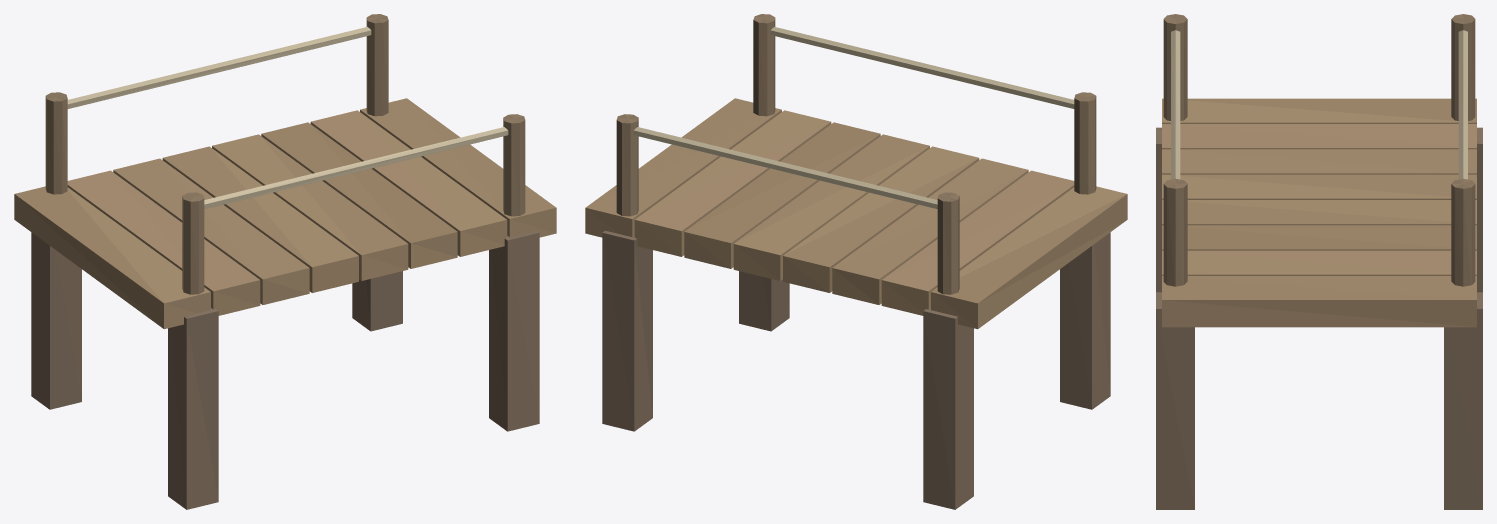
File: dock_straight.glb
The picture shows the model from 3 angles, left to right: view 1: azimuth 30°, elevation 25°; view 2: azimuth 150°, elevation 25°; view 3: azimuth 270°, elevation 25°; orthographic projection. The views are drawn at different scales.
Visible parts, largest first — view 1: plank_0, pile_0.65_-0.48, pile_-0.65_-0.48, plank_4, plank_5, plank_6, plank_3, pile_-0.65_0.48, plank_2, plank_1, plank_7, rope_-0.48 (+6 smaller); view 2: plank_0, pile_0.65_0.48, pile_-0.65_0.48, plank_4, plank_5, plank_6, plank_3, pile_-0.65_-0.48, plank_2, plank_1, plank_7, rope_-0.48 (+6 smaller); view 3: plank_7, plank_1, plank_2, pile_0.65_-0.48, pile_0.65_0.48, plank_3, plank_0, plank_5, plank_4, plank_6, post_0.65_-0.48, post_0.65_0.48 (+6 smaller).
Boxes of the visible parts, left/top/right/bottom form: plank_0: left=14, top=186, right=210, bottom=329; pile_0.65_-0.48: left=489, top=230, right=539, bottom=431; pile_-0.65_-0.48: left=168, top=308, right=218, bottom=509; plank_4: left=212, top=134, right=408, bottom=280; plank_5: left=261, top=122, right=457, bottom=268; plank_6: left=310, top=110, right=507, bottom=256; plank_3: left=162, top=146, right=358, bottom=292; pile_-0.65_0.48: left=31, top=232, right=81, bottom=409; plank_2: left=113, top=158, right=309, bottom=304; plank_1: left=67, top=170, right=260, bottom=315; plank_7: left=360, top=98, right=556, bottom=237; rope_-0.48: left=204, top=127, right=508, bottom=209; plank_0: left=931, top=186, right=1127, bottom=329; pile_0.65_0.48: left=602, top=230, right=652, bottom=431; pile_-0.65_0.48: left=923, top=308, right=973, bottom=509; plank_4: left=733, top=134, right=929, bottom=280; plank_5: left=684, top=122, right=880, bottom=268; plank_6: left=634, top=110, right=831, bottom=256; plank_3: left=783, top=146, right=979, bottom=292; pile_-0.65_-0.48: left=1060, top=232, right=1110, bottom=409; plank_2: left=832, top=158, right=1028, bottom=304; plank_1: left=881, top=170, right=1074, bottom=315; plank_7: left=585, top=98, right=781, bottom=237; rope_-0.48: left=770, top=27, right=1074, bottom=108; plank_7: left=1162, top=276, right=1476, bottom=327; plank_1: left=1162, top=124, right=1476, bottom=149; plank_2: left=1162, top=149, right=1476, bottom=174; pile_0.65_-0.48: left=1156, top=292, right=1194, bottom=509; pile_0.65_0.48: left=1444, top=292, right=1482, bottom=509; plank_3: left=1162, top=174, right=1476, bottom=199; plank_0: left=1162, top=98, right=1476, bottom=123; plank_5: left=1162, top=225, right=1476, bottom=250; plank_4: left=1162, top=200, right=1476, bottom=225; plank_6: left=1162, top=250, right=1476, bottom=275; post_0.65_-0.48: left=1163, top=178, right=1187, bottom=286; post_0.65_0.48: left=1451, top=178, right=1475, bottom=286.
Bounding box in the file's own units: 1.59 × 1.17 × 1.09.
